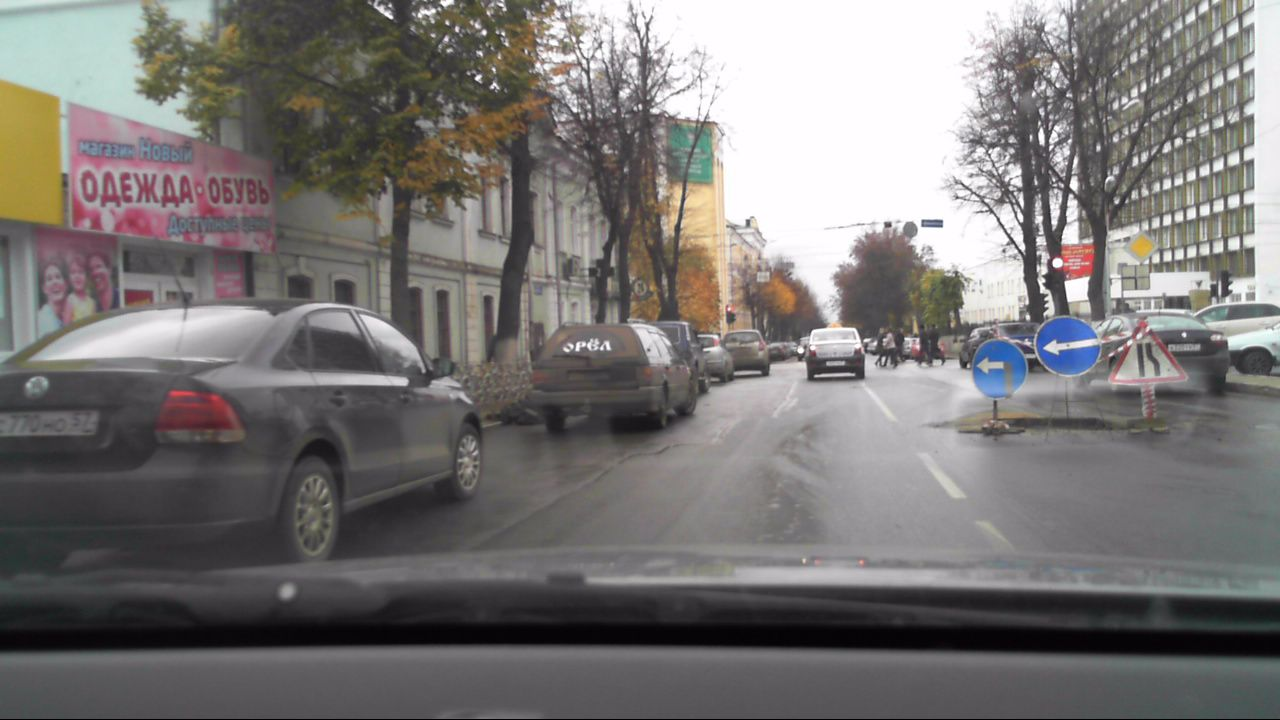Turn Left: (1033, 316, 1101, 377)
